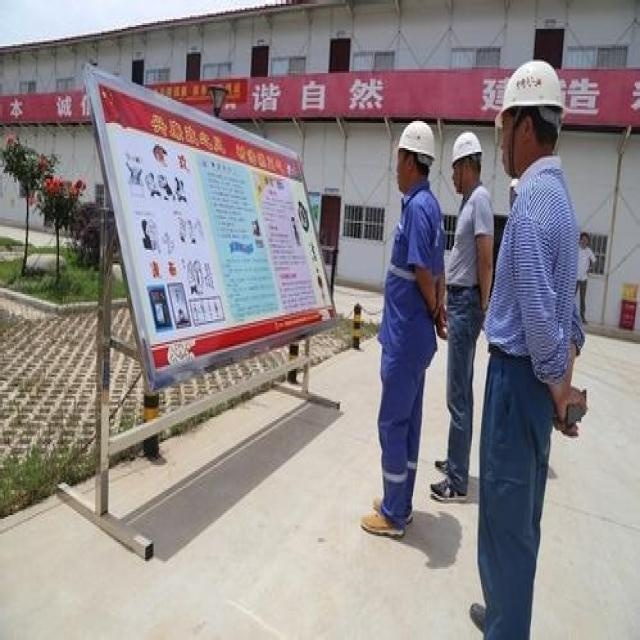Con_Casco: (395, 120, 436, 192), (451, 130, 482, 197)
